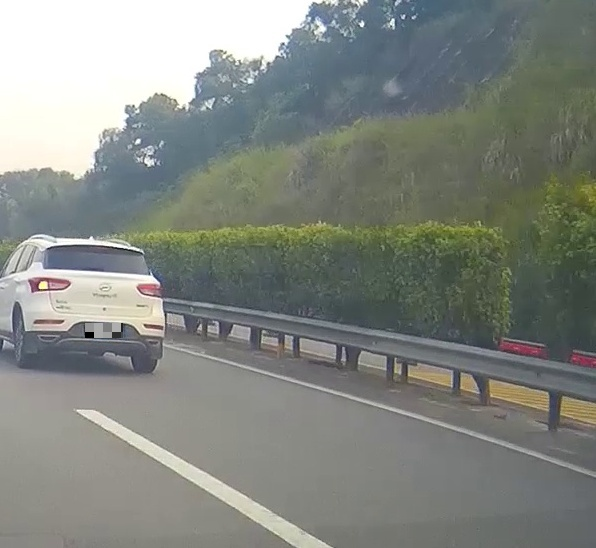L_light: (28, 276, 72, 294)
R_light: (136, 283, 163, 299)
T_light: (91, 245, 114, 250)
day-left: (25, 237, 165, 374)
plate_1: (85, 323, 123, 338)
